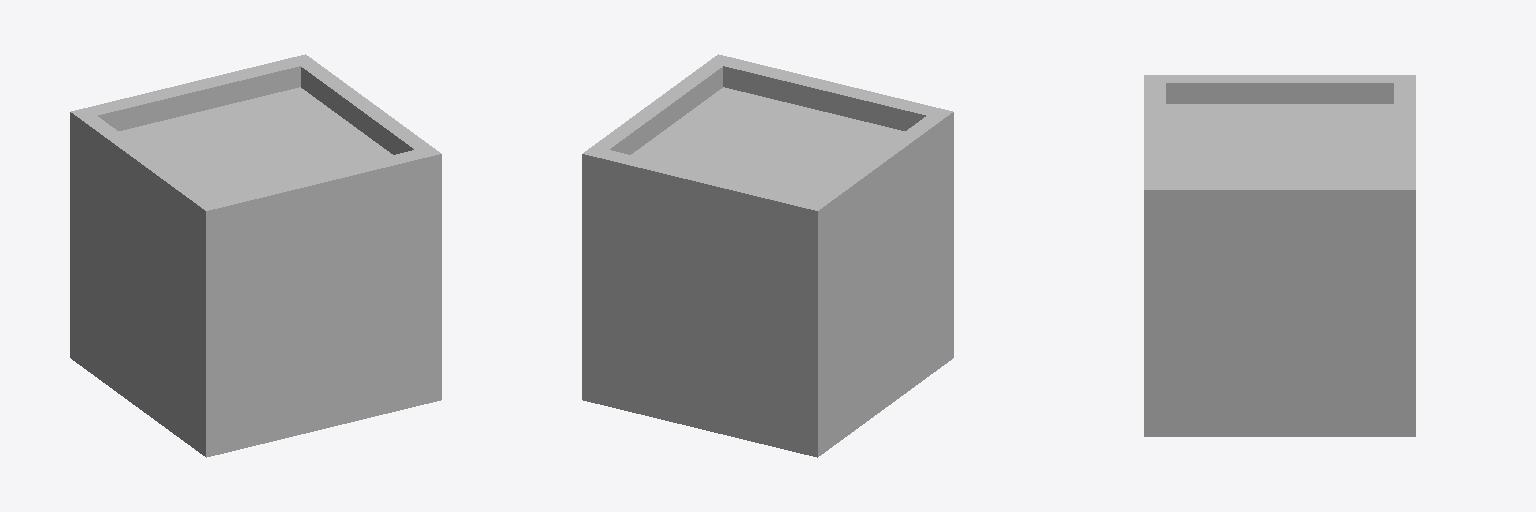
The model's file is AlmacenGambas.obj.
The picture shows the model from 3 angles: view 1: azimuth 30°, elevation 25°; view 2: azimuth 150°, elevation 25°; view 3: azimuth 270°, elevation 25°; orthographic projection.
Visible parts, largest first — view 1: object 1; view 2: object 1; view 3: object 1.
Part boxes in pixels (left/top/right/bottom): object 1: left=70, top=54, right=441, bottom=457; object 1: left=582, top=54, right=953, bottom=457; object 1: left=1144, top=75, right=1415, bottom=436.
Bounding box in the file's own units: 17.6 × 17.6 × 17.6.